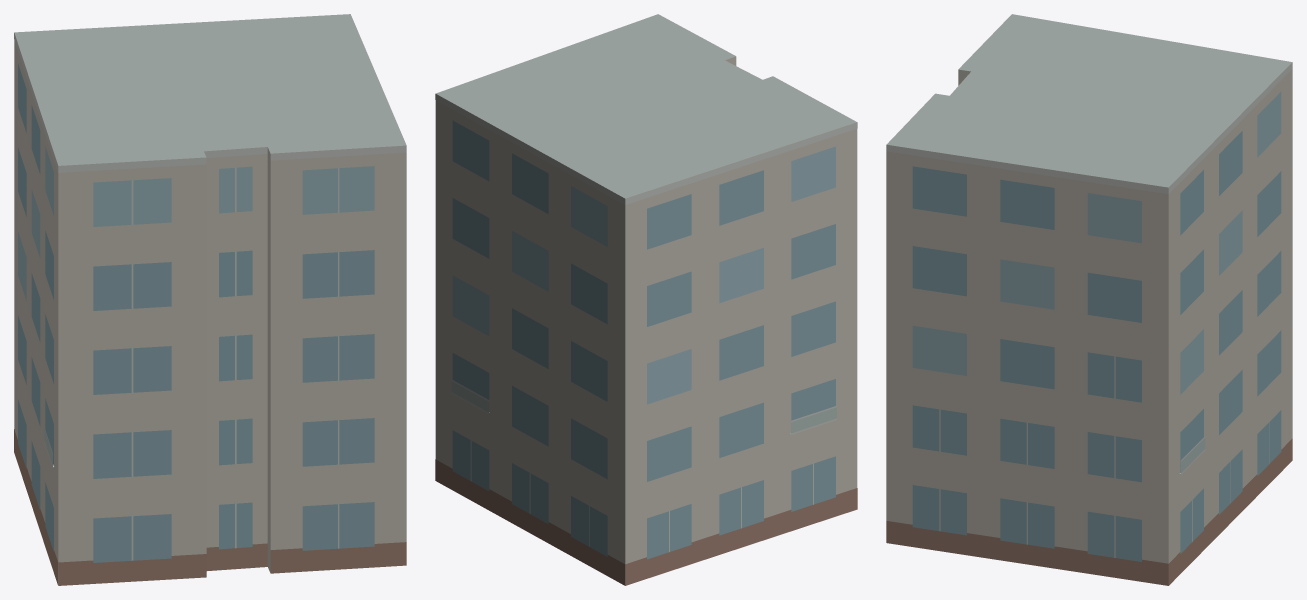
File: survey-upis-32610555.glb
3 renders of one model, left to right at view 1: azimuth 30°, elevation 25°; view 2: azimuth 150°, elevation 25°; view 3: azimuth 270°, elevation 25°, orthographic. The views are drawn at different scales.
Visible parts, largest first — view 1: survey-upis-32610555.tmp; view 2: survey-upis-32610555.tmp; view 3: survey-upis-32610555.tmp.
Boxes of the visible parts, x1,y1,x2,y2 form: survey-upis-32610555.tmp: (14,14,406,585); survey-upis-32610555.tmp: (435,14,857,585); survey-upis-32610555.tmp: (886,14,1292,585).
Size of the model in its own units: 13.75 by 14.7 by 13.6.
